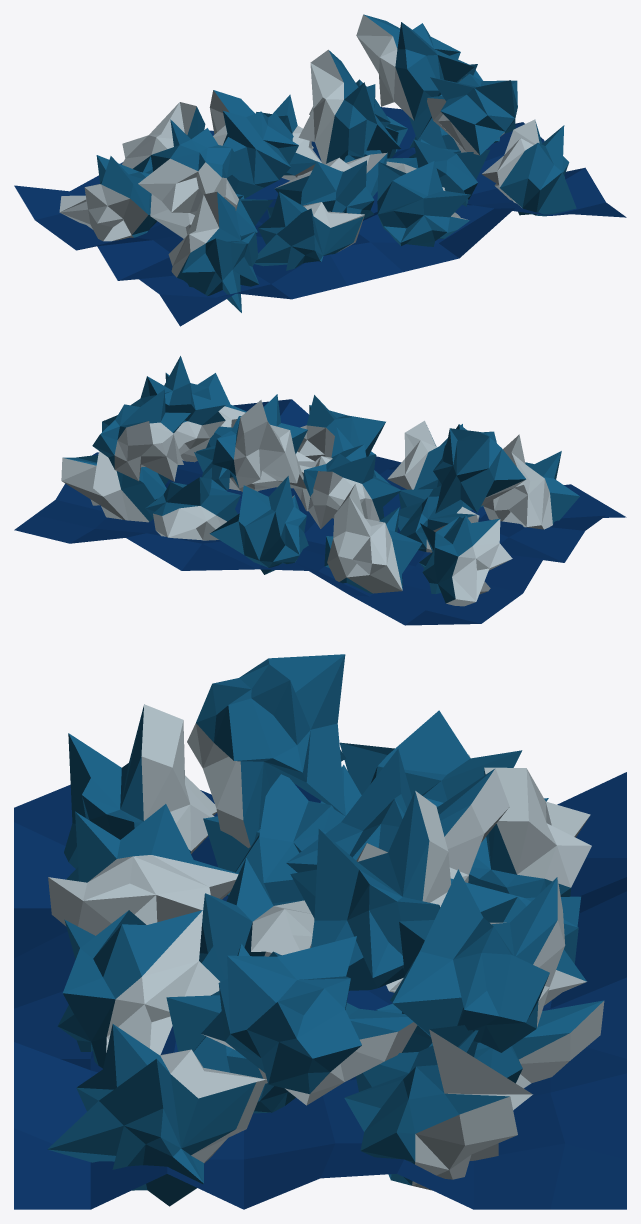
Rendered from ChestV2_Loot.glb.
The picture shows the model from 3 angles, top to bottom: view 1: azimuth 30°, elevation 25°; view 2: azimuth 150°, elevation 25°; view 3: azimuth 270°, elevation 25°; orthographic projection. The views are drawn at different scales.
Visible parts, largest first — view 1: ChestV2_Loot; view 2: ChestV2_Loot; view 3: ChestV2_Loot.
Boxes of the visible parts, left/top/right/bottom form: ChestV2_Loot: left=14, top=14, right=626, bottom=326; ChestV2_Loot: left=14, top=356, right=626, bottom=625; ChestV2_Loot: left=14, top=654, right=626, bottom=1209.
Bounding box in the file's own units: 70.7 × 22.87 × 45.56.
Materials: 1 (1 with a texture image).
